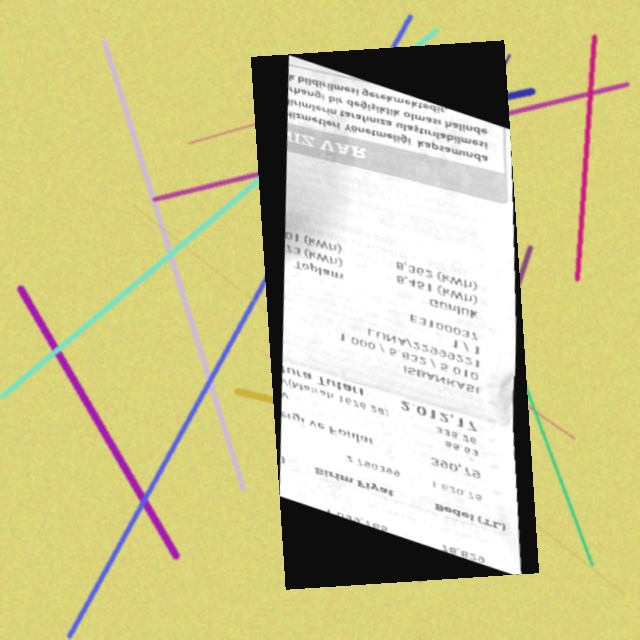electricity-bill: (250, 39, 538, 589)
